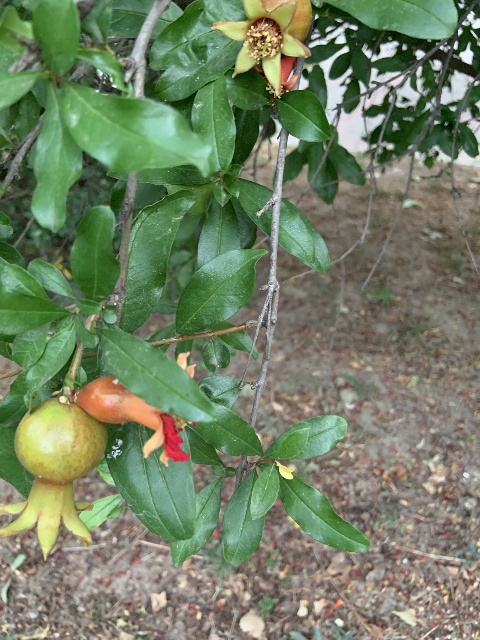early-fruit: (74, 360, 199, 466), (211, 0, 312, 90)
mid-growth: (0, 398, 107, 557)
